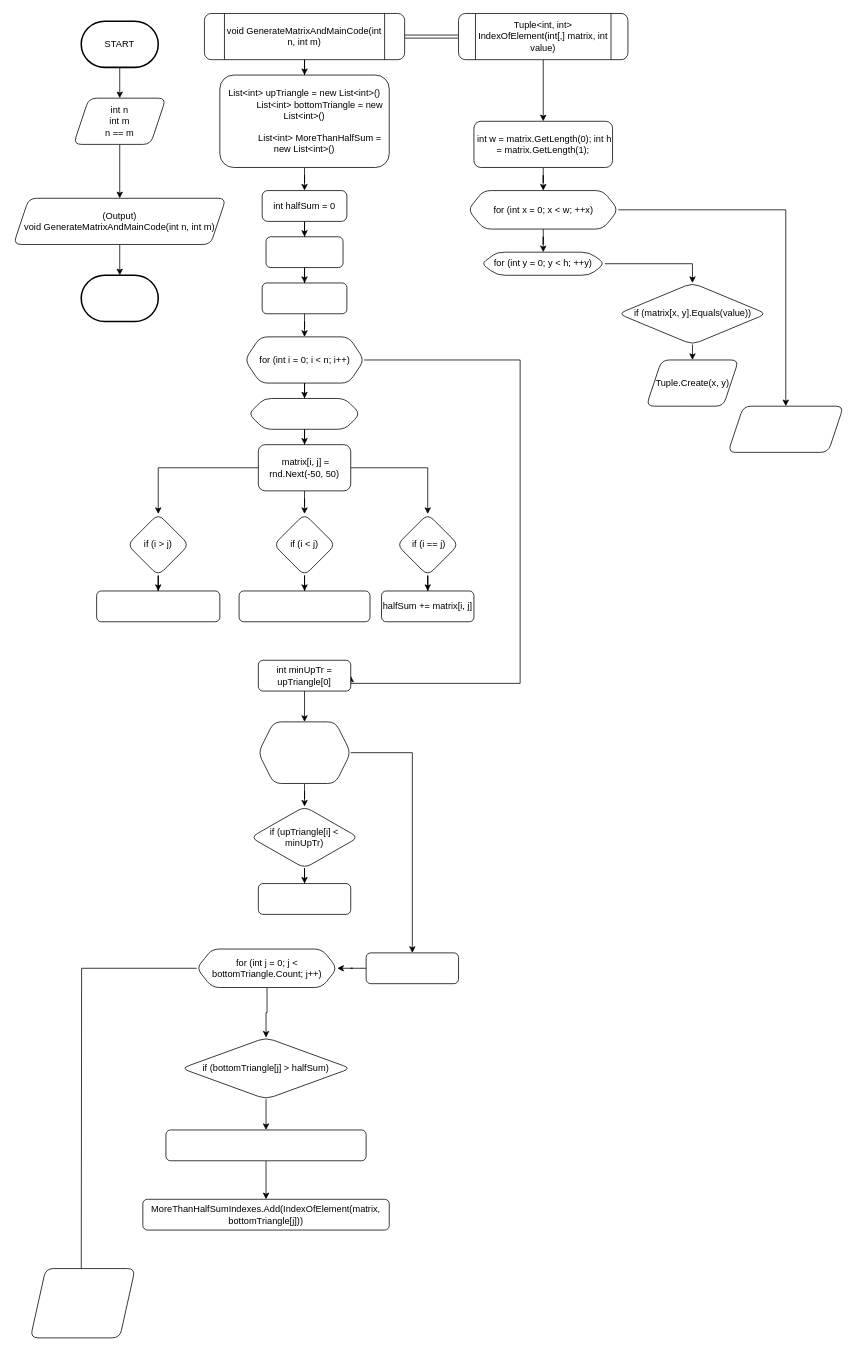
Image size: 857x1351. Some labels were removed from this diagram. Each missing label, with the centre of its shape:
"bottomTriangle.Add(matrix[i, j])" belongs at (158,606).
"END" belongs at (119,298).
"for (int i = 0; i < upTriangle.Count; i++)" belongs at (304,752).
"for (int j = 0; j < m; j++)" belongs at (304,413).
"halfSum /= 2" belongs at (412,968).
"int[,] matrix = new int[n, m]" belongs at (304,298).
"minUpTr = upTriangle[i]" belongs at (304,898).
"MoreThanHalfSum.Add(bottomTriangle[j])" belongs at (265,1145).
"Random rnd = new Random()" belongs at (304,252).
"Tuple.Create(-1, -1)" belongs at (785,428).
"Upper Triangle Sequence Lower Triangle Sequence Half-sum Indexes" belongs at (82,1303).
"upTriangle.Add(matrix[i, j])" belongs at (304,606).
